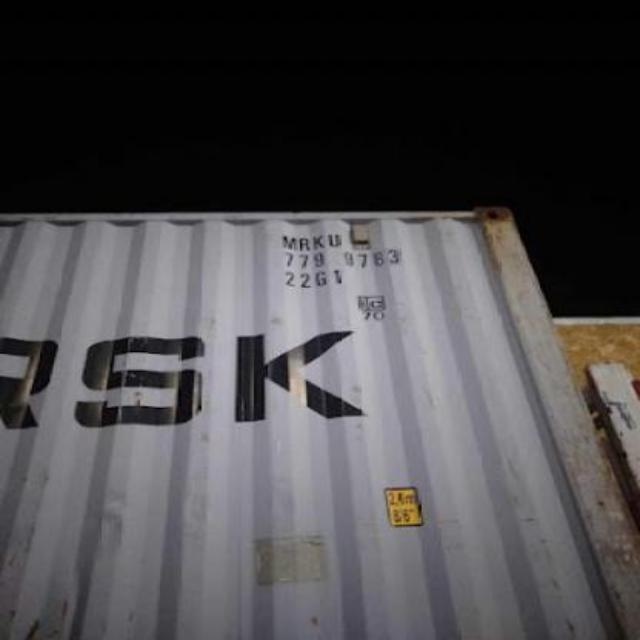3: (386, 248, 402, 262)
7: (296, 252, 312, 270), (282, 252, 296, 266), (356, 254, 369, 268)
8: (370, 250, 388, 266)
9: (340, 249, 356, 267), (312, 252, 328, 266)
K: (310, 234, 326, 250)
M: (280, 234, 298, 250)
R: (298, 235, 312, 251)
U: (328, 233, 344, 249)
